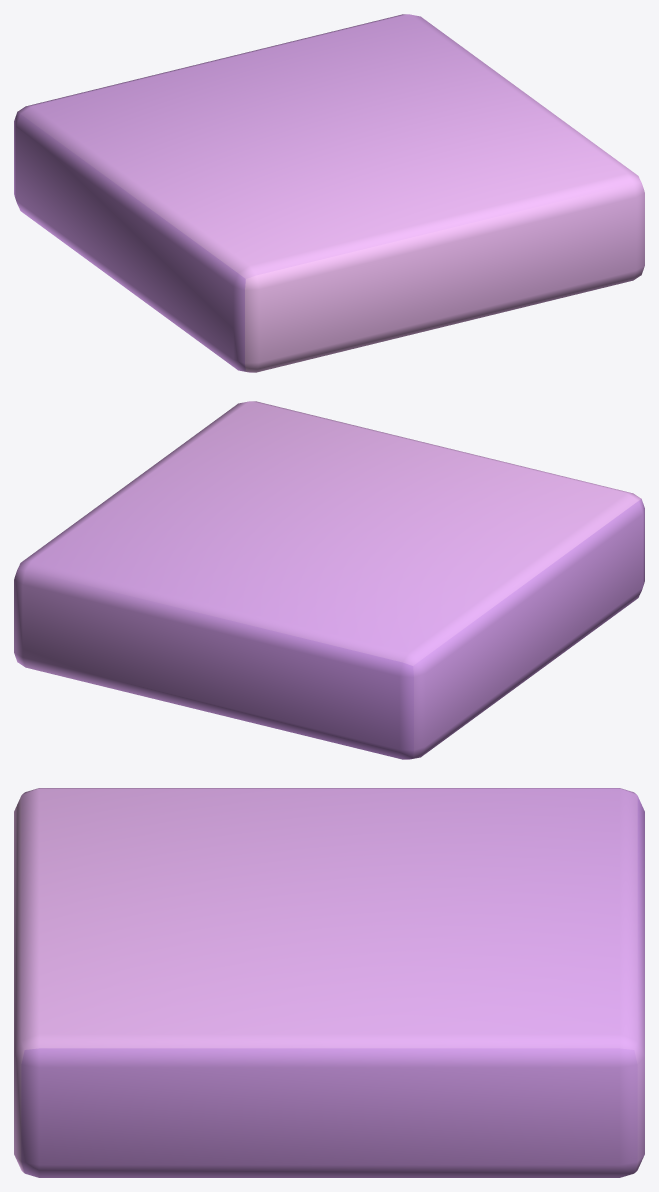
The model's file is TilePurple.fbx.
The picture shows the model from 3 angles, top to bottom: view 1: azimuth 30°, elevation 25°; view 2: azimuth 150°, elevation 25°; view 3: azimuth 270°, elevation 25°; orthographic projection. The views are drawn at different scales.
Visible parts, largest first — view 1: Cube.001; view 2: Cube.001; view 3: Cube.001.
Boxes of the visible parts, x1,y1,x2,y2 form: Cube.001: (14,14,644,372); Cube.001: (14,401,644,759); Cube.001: (14,788,644,1177).
Bounding box in the file's own units: 150 × 37.5 × 150.
